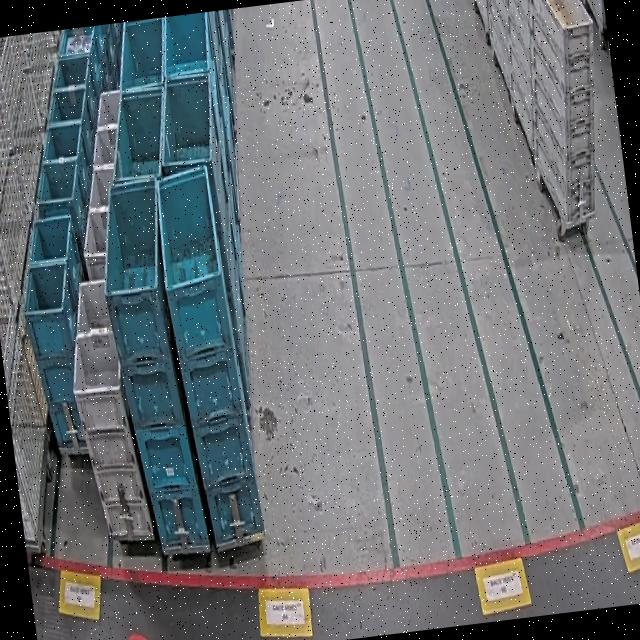6G: (511, 0, 615, 222)
8G: (58, 280, 159, 543)
B4: (89, 171, 213, 553), (150, 163, 266, 551)
B8: (15, 212, 106, 448)
